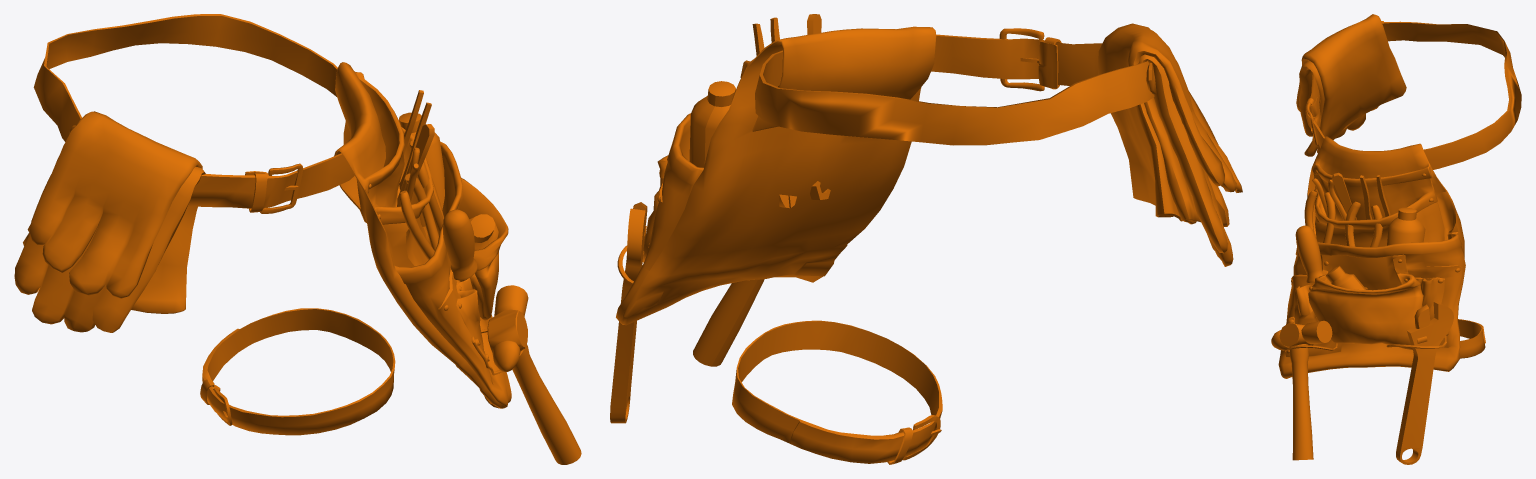
Rendered from coldrefem3.glb.
3 renders of one model, left to right at view 1: azimuth 30°, elevation 25°; view 2: azimuth 150°, elevation 25°; view 3: azimuth 270°, elevation 25°, orthographic. The views are drawn at different scales.
Visible parts, largest first — view 1: hash_0DAEDAE6.model; view 2: hash_0DAEDAE6.model; view 3: hash_0DAEDAE6.model.
Boxes of the visible parts, <box> form: hash_0DAEDAE6.model: <box>14,14,581,464</box>; hash_0DAEDAE6.model: <box>610,14,1242,464</box>; hash_0DAEDAE6.model: <box>1271,14,1521,464</box>.
Size of the model in its own units: 0.6289 by 0.4885 by 0.371.
